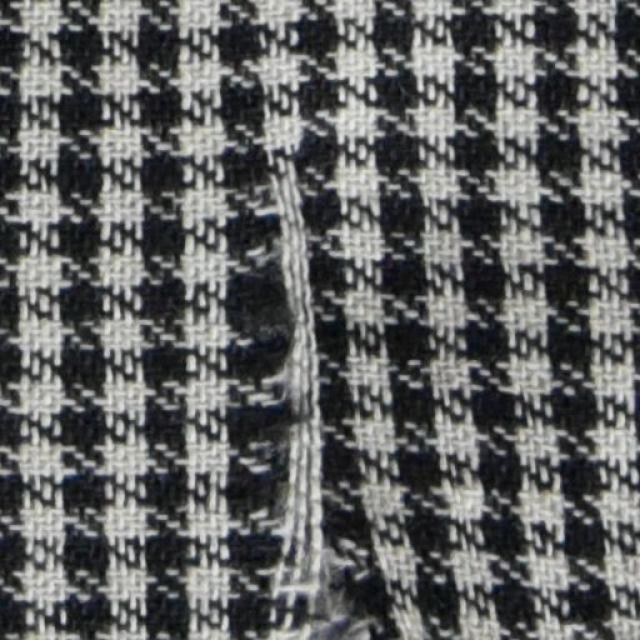Snag: (247, 186, 362, 640)
